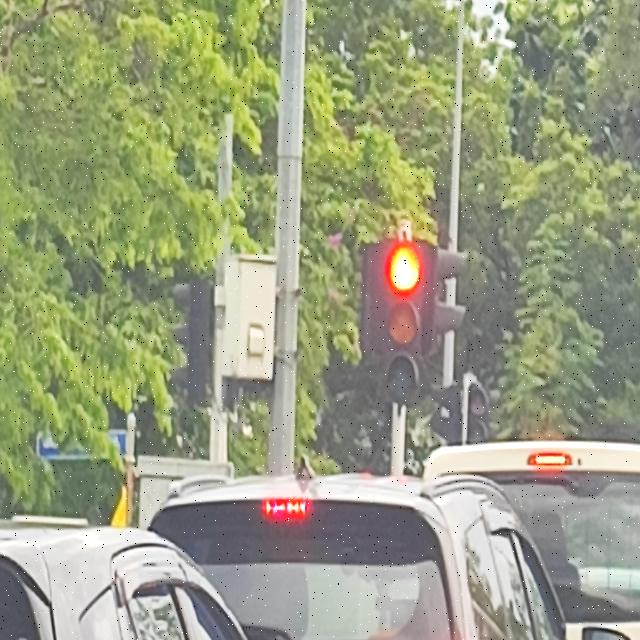red_light: (381, 240, 432, 403)
